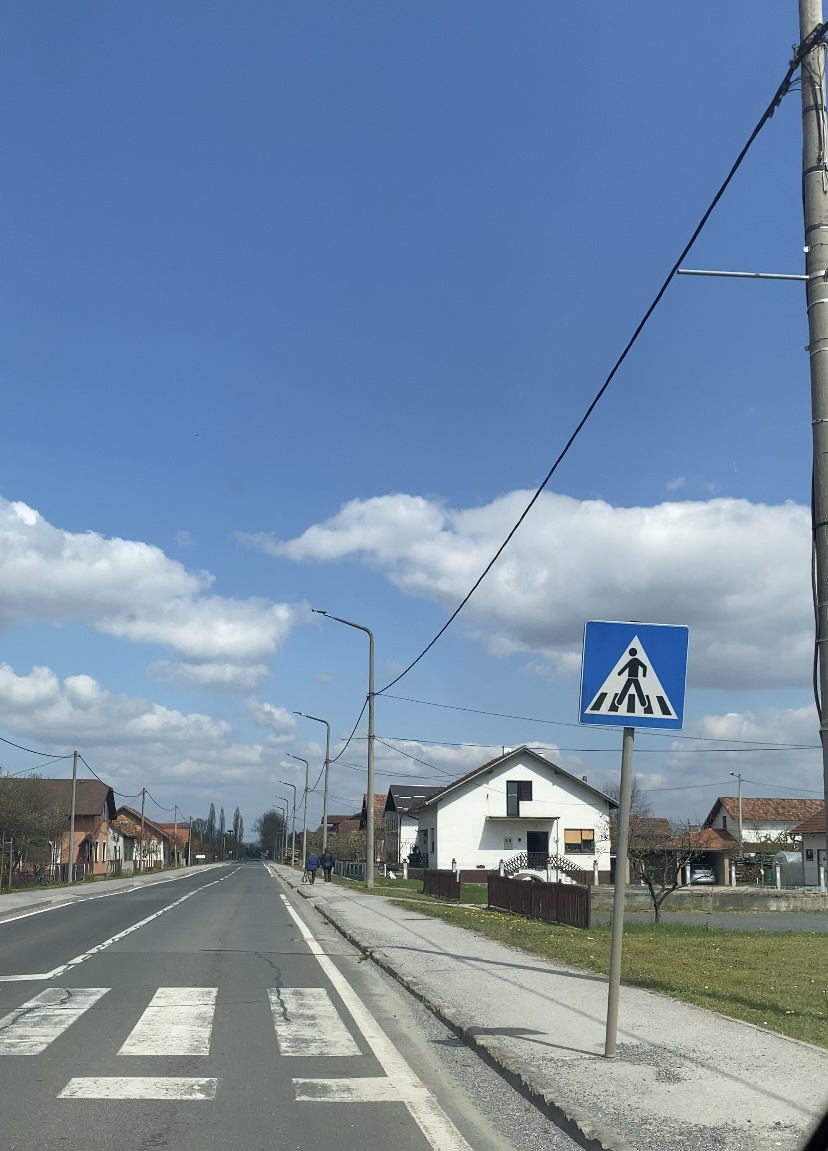Pješački prijelaz: (578, 620, 691, 731)
